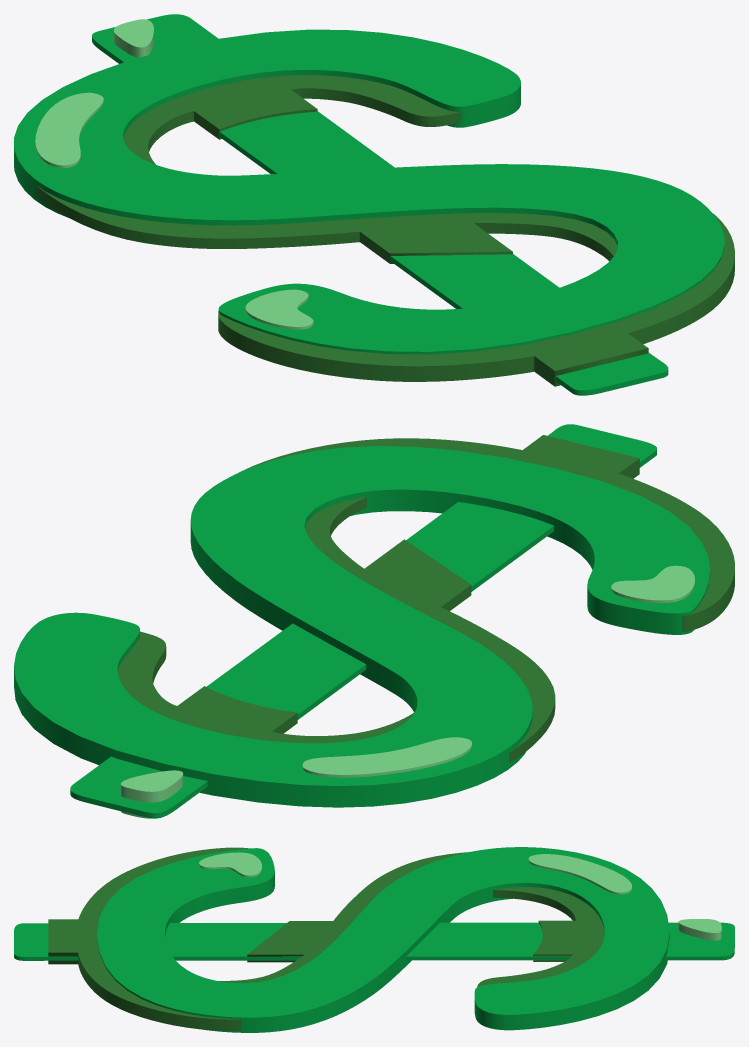
File: emoji_u1f4b2.glb
3 renders of one model, top to bottom at view 1: azimuth 30°, elevation 25°; view 2: azimuth 150°, elevation 25°; view 3: azimuth 270°, elevation 25°, orthographic. The views are drawn at different scales.
Visible parts, largest first — view 1: emoji_u1f4b2; view 2: emoji_u1f4b2; view 3: emoji_u1f4b2.
Boxes of the visible parts, box(x1,y1,x2,y2) form: emoji_u1f4b2: box(14, 14, 734, 395); emoji_u1f4b2: box(14, 424, 734, 818); emoji_u1f4b2: box(14, 847, 734, 1032).
Size of the model in its own units: 0.0192 by 0.001 by 0.034.
